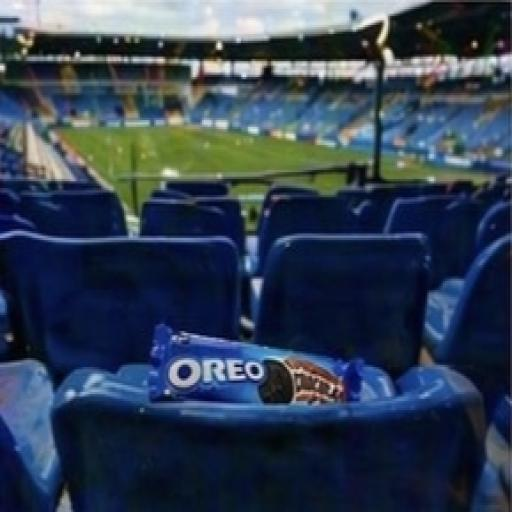oreo: (106, 266, 394, 456)
